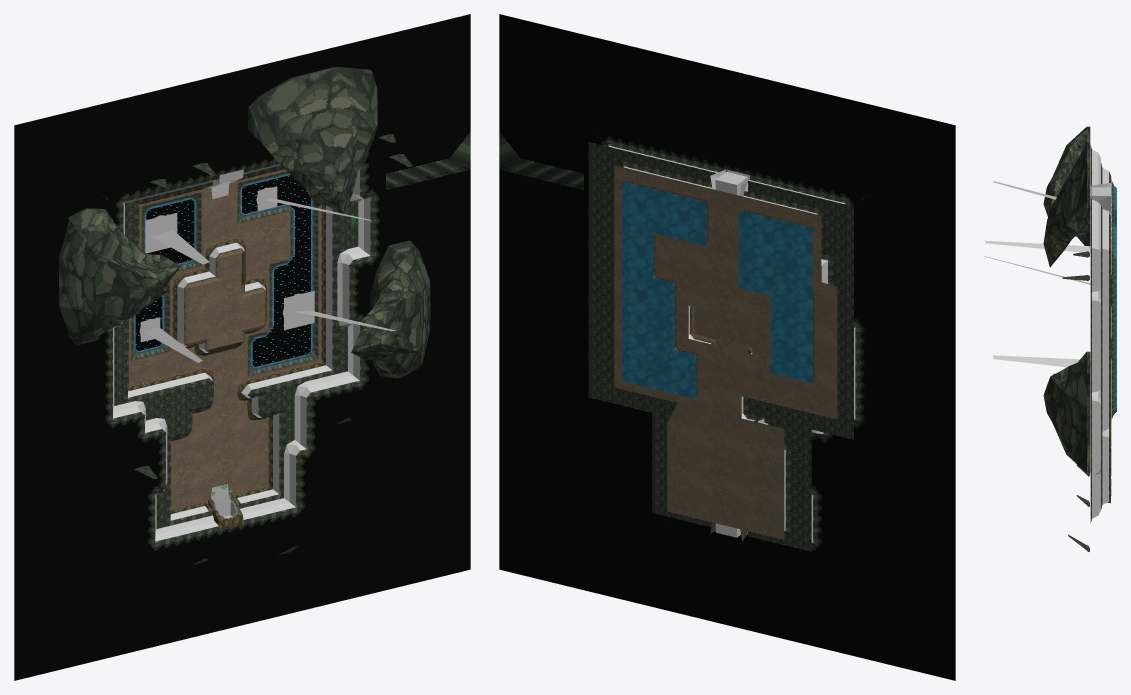
The model's file is BLENDER-WSC-1.obj.
The picture shows the model from 3 angles, left to right: view 1: azimuth 30°, elevation 25°; view 2: azimuth 150°, elevation 25°; view 3: azimuth 270°, elevation 25°; orthographic projection. The views are drawn at different scales.
Parts seen in each view (by area): view 1: d0gake_heri_lay0_QUADS_VisGroup0, d0iwa_01_lay0_TRIS_VisGroup0, d0yuka_001_lay0_QUADS_VisGroup0, d0gake_001b_lay0_QUADS_VisGroup0, d0iwa_01_lay0_QUADS_VisGroup0, d0gake_002b_lay0_QUADS_VisGroup0, d0yuka_002_lay0_QUADS_VisGroup0, d0_miz2_lay0_QUADS_VisGroup0, d0gake_002_lay0_QUADS_VisGroup0, d0gake_001_lay0_QUADS_VisGroup0, d0_miz2_lay0_TRIS_VisGroup0, in51_ray02_lay0_QUADS_VisGroup0 (+5 smaller); view 2: d0gake_heri_lay0_QUADS_VisGroup0, d0yuka_001_lay0_QUADS_VisGroup0, d0_miz_lay0_QUADS_VisGroup0, d0yuka_002_lay0_QUADS_VisGroup0, d0gake_002b_lay0_QUADS_VisGroup0, d0gake_002_lay0_QUADS_VisGroup0, d0gake_001b_lay0_QUADS_VisGroup0, d0yuka_001_lay0_TRIS_VisGroup0, d0yuka_002_lay0_TRIS_VisGroup0; view 3: d0gake_001b_lay0_QUADS_VisGroup0, d0iwa_01_lay0_TRIS_VisGroup0, d0iwa_01_lay0_QUADS_VisGroup0, in51_ray03_lay0_QUADS_VisGroup0, d0gake_002b_lay0_QUADS_VisGroup0, d0gake_001_lay0_QUADS_VisGroup0, d0mizu_gake_lay0_QUADS_VisGroup0, d0_miz_lay0_QUADS_VisGroup0, d0yuka_002_lay0_QUADS_VisGroup0, d0ana_001_lay0_TRIS_VisGroup0.
Boxes of the visible parts, x1=… form: d0gake_heri_lay0_QUADS_VisGroup0: x1=14, y1=14, x2=470, y2=680; d0iwa_01_lay0_TRIS_VisGroup0: x1=59, y1=68, x2=430, y2=378; d0yuka_001_lay0_QUADS_VisGroup0: x1=128, y1=169, x2=322, y2=510; d0gake_001b_lay0_QUADS_VisGroup0: x1=113, y1=164, x2=370, y2=541; d0iwa_01_lay0_QUADS_VisGroup0: x1=59, y1=67, x2=430, y2=375; d0gake_002b_lay0_QUADS_VisGroup0: x1=109, y1=159, x2=375, y2=547; d0yuka_002_lay0_QUADS_VisGroup0: x1=114, y1=134, x2=412, y2=564; d0_miz2_lay0_QUADS_VisGroup0: x1=135, y1=184, x2=310, y2=366; d0gake_002_lay0_QUADS_VisGroup0: x1=129, y1=169, x2=320, y2=378; d0gake_001_lay0_QUADS_VisGroup0: x1=128, y1=168, x2=325, y2=513; d0_miz2_lay0_TRIS_VisGroup0: x1=135, y1=175, x2=310, y2=364; in51_ray02_lay0_QUADS_VisGroup0: x1=140, y1=186, x2=314, y2=342; d0gake_heri_lay0_QUADS_VisGroup0: x1=499, y1=14, x2=955, y2=680; d0yuka_001_lay0_QUADS_VisGroup0: x1=614, y1=165, x2=837, y2=539; d0_miz_lay0_QUADS_VisGroup0: x1=622, y1=181, x2=812, y2=398; d0yuka_002_lay0_QUADS_VisGroup0: x1=588, y1=142, x2=853, y2=551; d0gake_002b_lay0_QUADS_VisGroup0: x1=605, y1=140, x2=860, y2=547; d0gake_002_lay0_QUADS_VisGroup0: x1=625, y1=179, x2=815, y2=396; d0gake_001b_lay0_QUADS_VisGroup0: x1=608, y1=145, x2=855, y2=542; d0yuka_001_lay0_TRIS_VisGroup0: x1=657, y1=211, x2=767, y2=363; d0yuka_002_lay0_TRIS_VisGroup0: x1=652, y1=396, x2=853, y2=439; d0gake_001b_lay0_QUADS_VisGroup0: x1=1092, y1=149, x2=1111, y2=518; d0iwa_01_lay0_TRIS_VisGroup0: x1=1043, y1=127, x2=1086, y2=472; d0iwa_01_lay0_QUADS_VisGroup0: x1=1047, y1=126, x2=1090, y2=473; in51_ray03_lay0_QUADS_VisGroup0: x1=984, y1=181, x2=1090, y2=369; d0gake_002b_lay0_QUADS_VisGroup0: x1=1090, y1=145, x2=1102, y2=522; d0gake_001_lay0_QUADS_VisGroup0: x1=1109, y1=172, x2=1111, y2=500; d0mizu_gake_lay0_QUADS_VisGroup0: x1=1111, y1=183, x2=1114, y2=412; d0_miz_lay0_QUADS_VisGroup0: x1=1114, y1=186, x2=1116, y2=413; d0yuka_002_lay0_QUADS_VisGroup0: x1=1062, y1=147, x2=1089, y2=551; d0ana_001_lay0_TRIS_VisGroup0: x1=1091, y1=183, x2=1110, y2=213.
Bounding box in the file's own units: 688 × 800 × 202.
